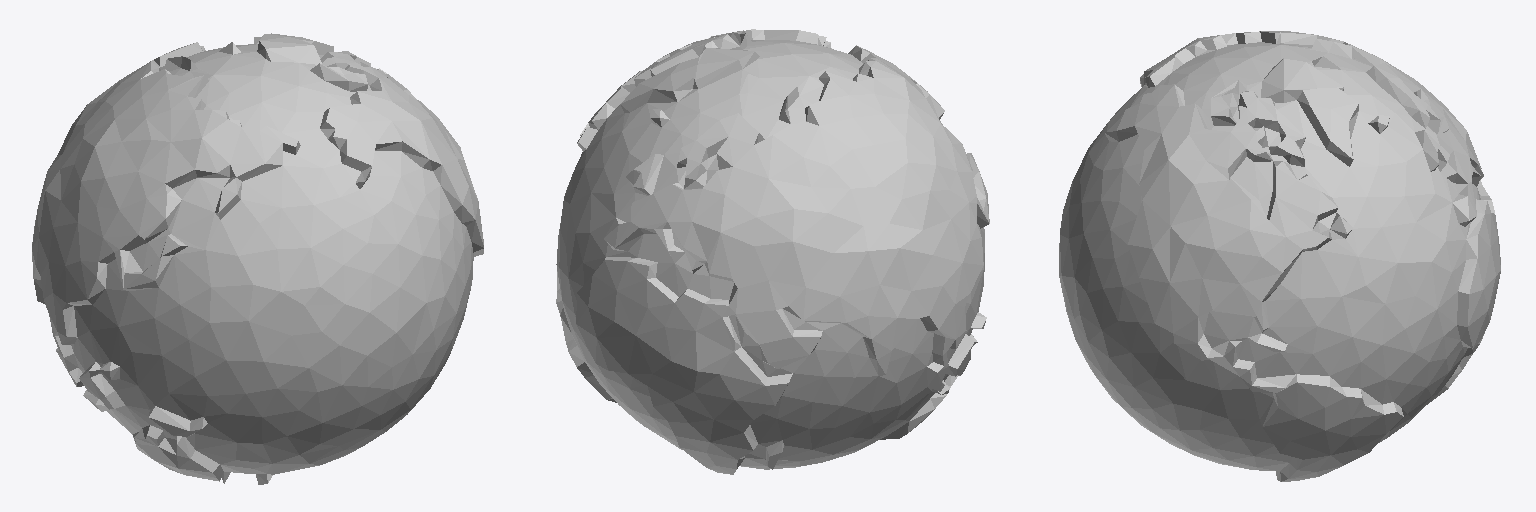
File: earth.obj
3 views of the same model, side by side, from view 1: azimuth 30°, elevation 25°; view 2: azimuth 150°, elevation 25°; view 3: azimuth 270°, elevation 25° (orthographic).
Visible parts, largest first — view 1: Earth; view 2: Earth; view 3: Earth.
Part boxes in pixels (x1,y1,x2,y2): Earth: (32, 33, 483, 484); Earth: (556, 29, 989, 474); Earth: (1059, 31, 1500, 481).
Size of the model in its own units: 7.56 by 7.5 by 7.4.